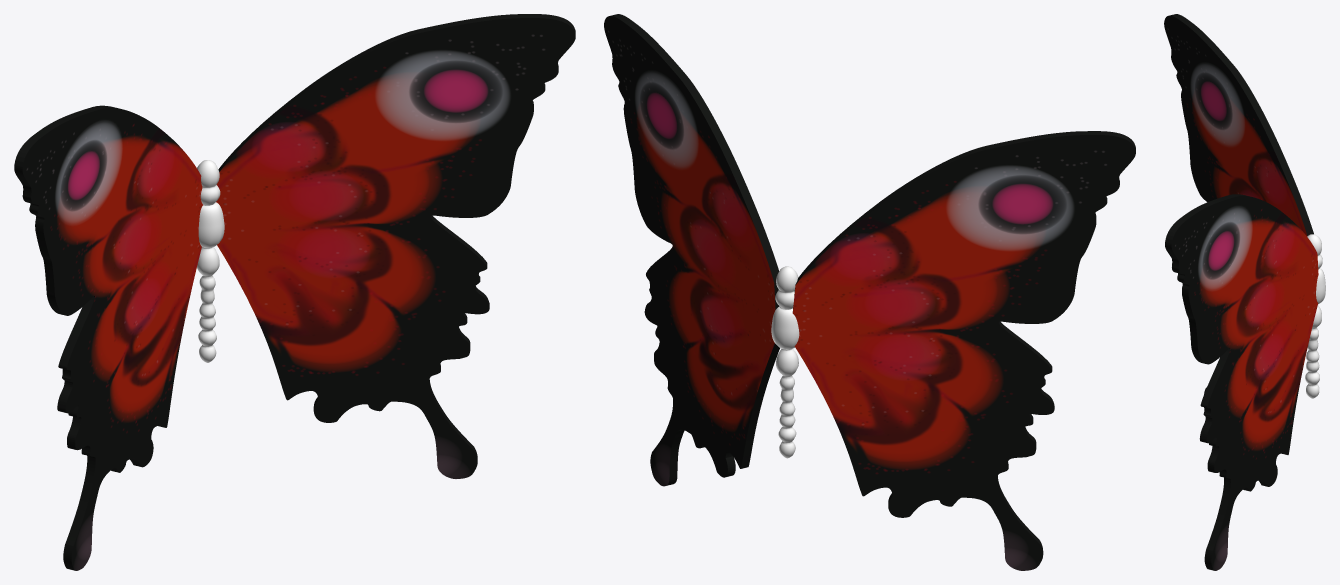
Rendered from Red_Stargazer.gltf.
The picture shows the model from 3 angles, left to right: view 1: azimuth 30°, elevation 25°; view 2: azimuth 150°, elevation 25°; view 3: azimuth 270°, elevation 25°; orthographic projection. The views are drawn at different scales.
Visible parts, largest first — view 1: butterfly wing right, butterfly wing left, butterfly body; view 2: butterfly wing left, butterfly wing right, butterfly body; view 3: butterfly wing right, butterfly wing left, butterfly body.
Part boxes in pixels (x1=…): butterfly wing right: x1=216, y1=14, x2=575, y2=478; butterfly wing left: x1=14, y1=105, x2=202, y2=570; butterfly body: x1=197, y1=160, x2=224, y2=362; butterfly wing left: x1=792, y1=131, x2=1135, y2=570; butterfly wing right: x1=604, y1=14, x2=779, y2=486; butterfly body: x1=771, y1=266, x2=799, y2=458; butterfly wing right: x1=1165, y1=194, x2=1318, y2=570; butterfly wing left: x1=1164, y1=14, x2=1313, y2=393; butterfly body: x1=1305, y1=234, x2=1325, y2=398.
Bounding box in the file's own units: 2.53 × 2 × 0.7799.
2 materials, 1 textured.
